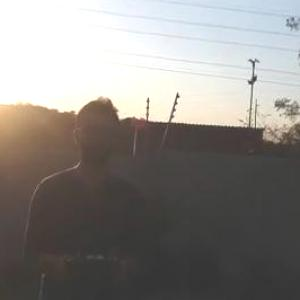follow: (24, 92, 153, 299)
